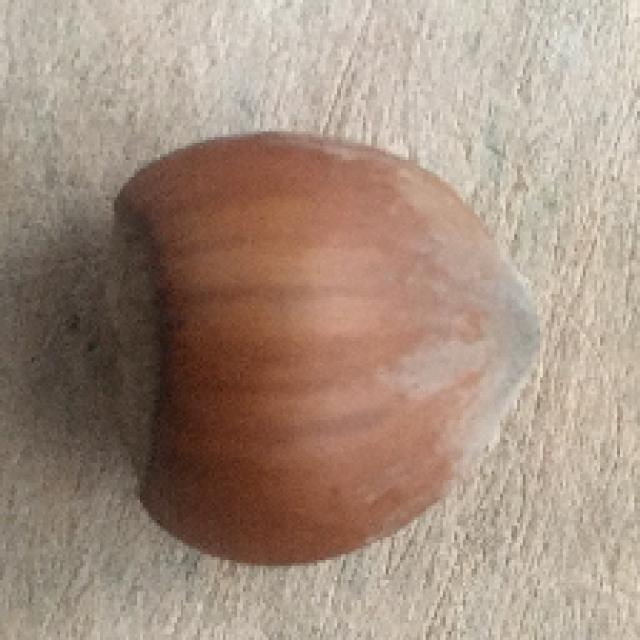QualityHazelnut: (97, 129, 549, 573)
